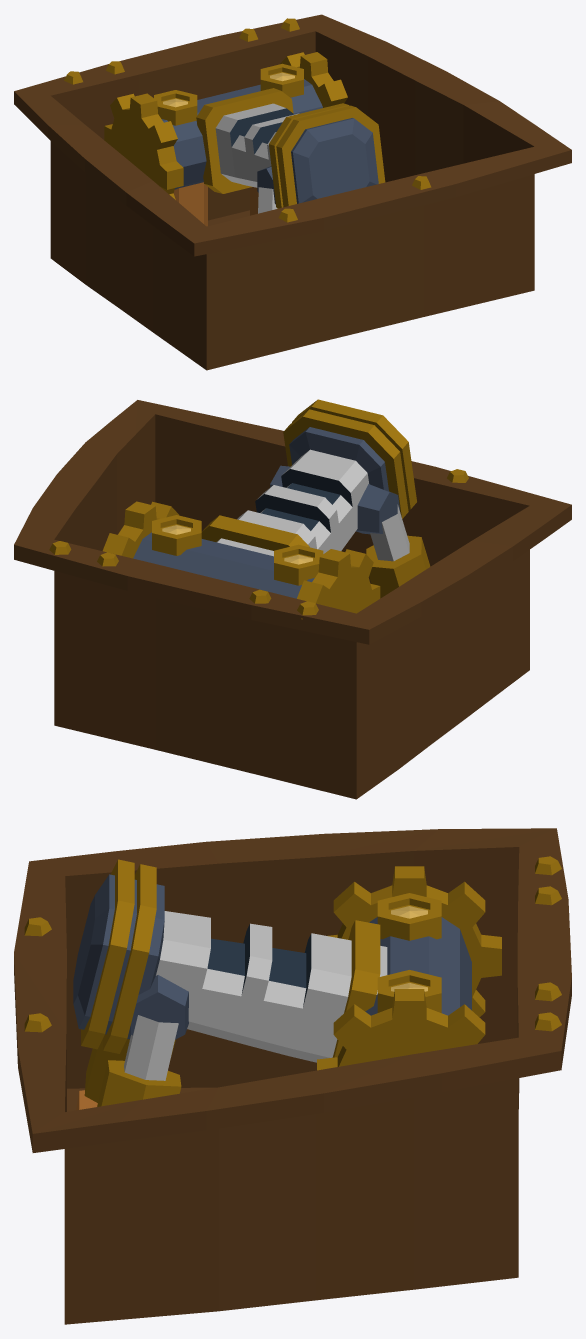
The model's file is whimsical-lever-arm-48fc04.glb.
3 views of the same model, one above another, from view 1: azimuth 30°, elevation 25°; view 2: azimuth 150°, elevation 25°; view 3: azimuth 270°, elevation 25° (orthographic). The views are drawn at different scales.
Parts seen in each view (by area): view 1: middle-finger-metacarpal; view 2: middle-finger-metacarpal; view 3: middle-finger-metacarpal.
Boxes of the visible parts, x1,y1,x2,y2 form: middle-finger-metacarpal: [14, 14, 571, 370]; middle-finger-metacarpal: [14, 399, 571, 799]; middle-finger-metacarpal: [14, 828, 571, 1324].
Size of the model in its own units: 0.0466 by 0.024 by 0.0393.
